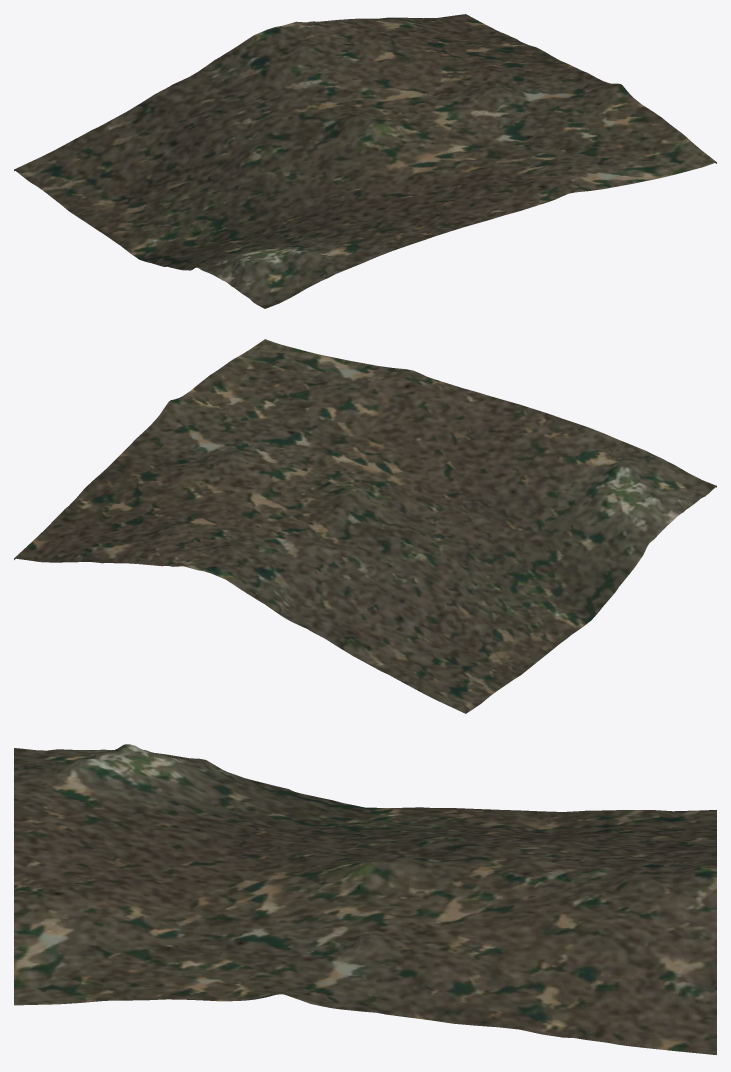
3 renders of one model, top to bottom at view 1: azimuth 30°, elevation 25°; view 2: azimuth 150°, elevation 25°; view 3: azimuth 270°, elevation 25°, orthographic. The views are drawn at different scales.
Size of the model in its own units: 250 by 48.75 by 241.
Materials: 1 (1 with a texture image).
